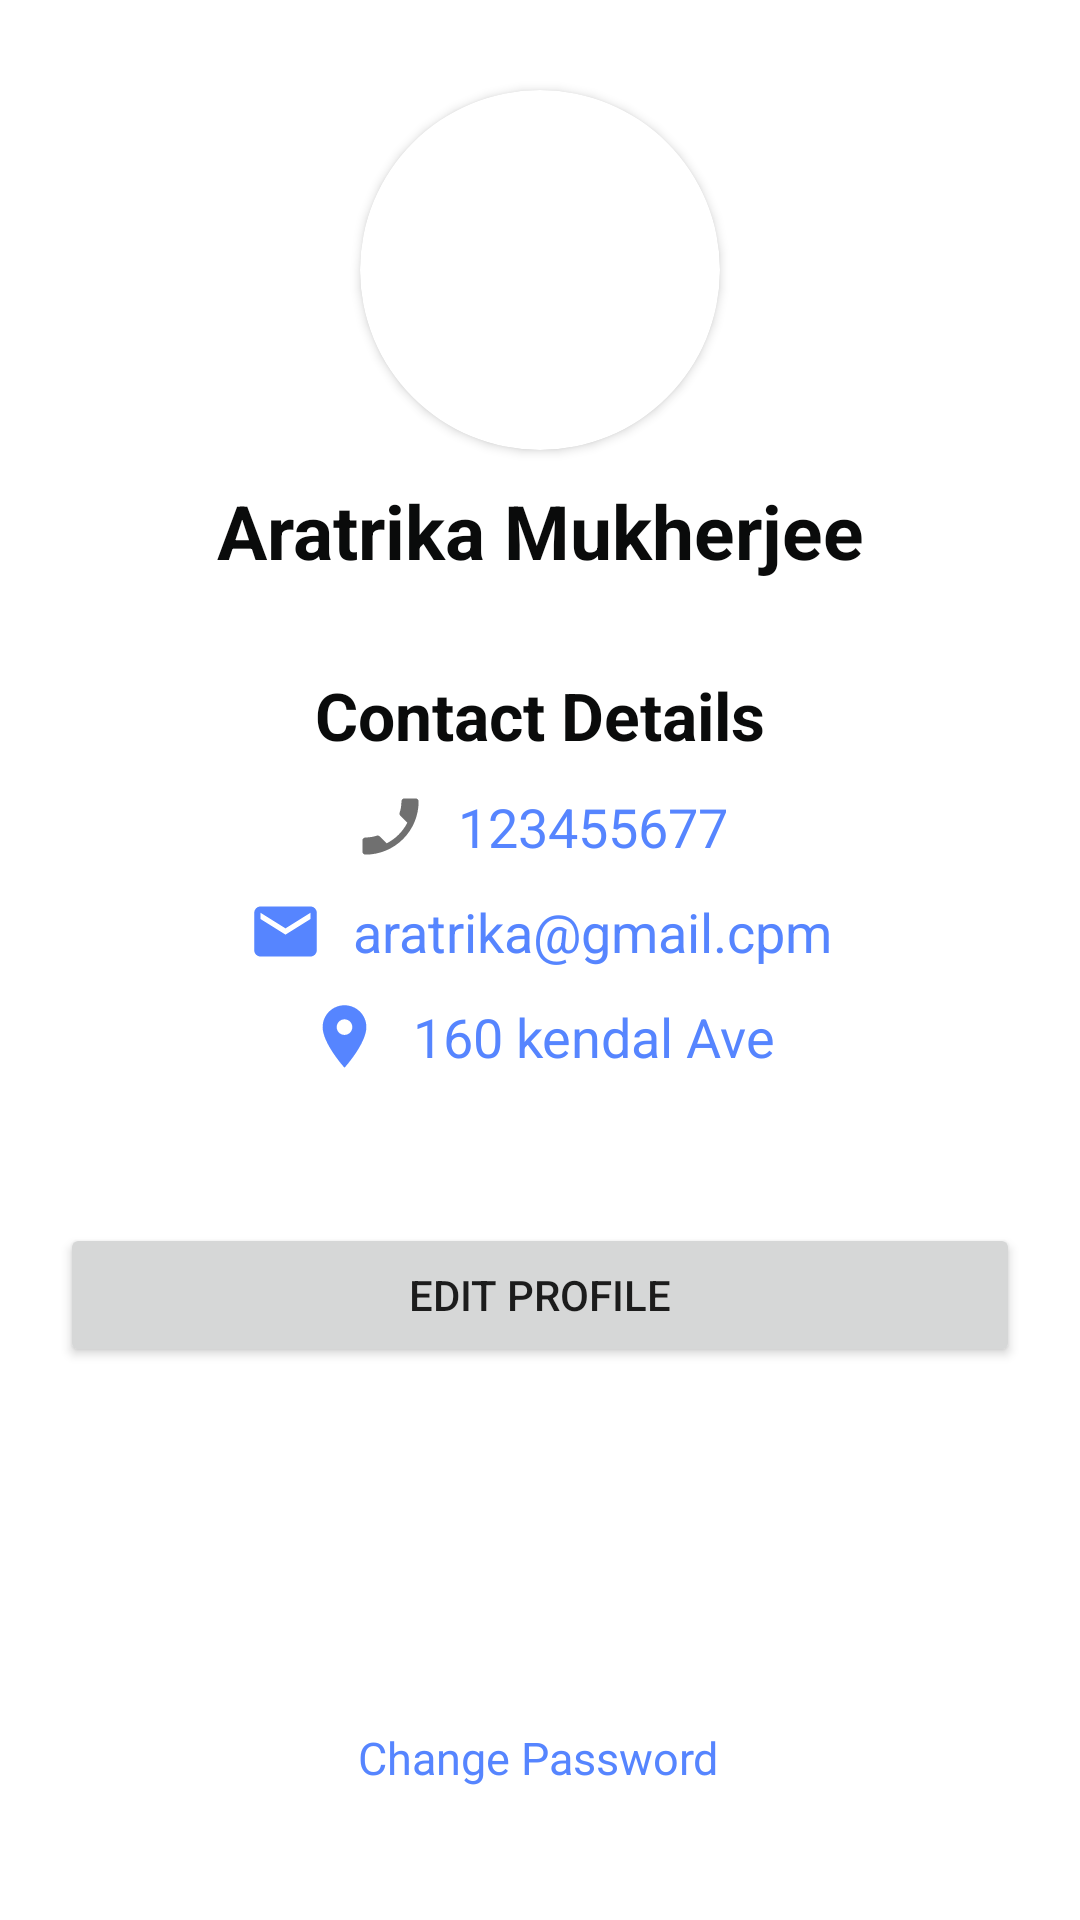

Where to tap for icons on this 1080*1920 app screen, as (x=x, y=y):
email: (x=285, y=931)
location: (x=344, y=1036)
phone: (x=390, y=826)
